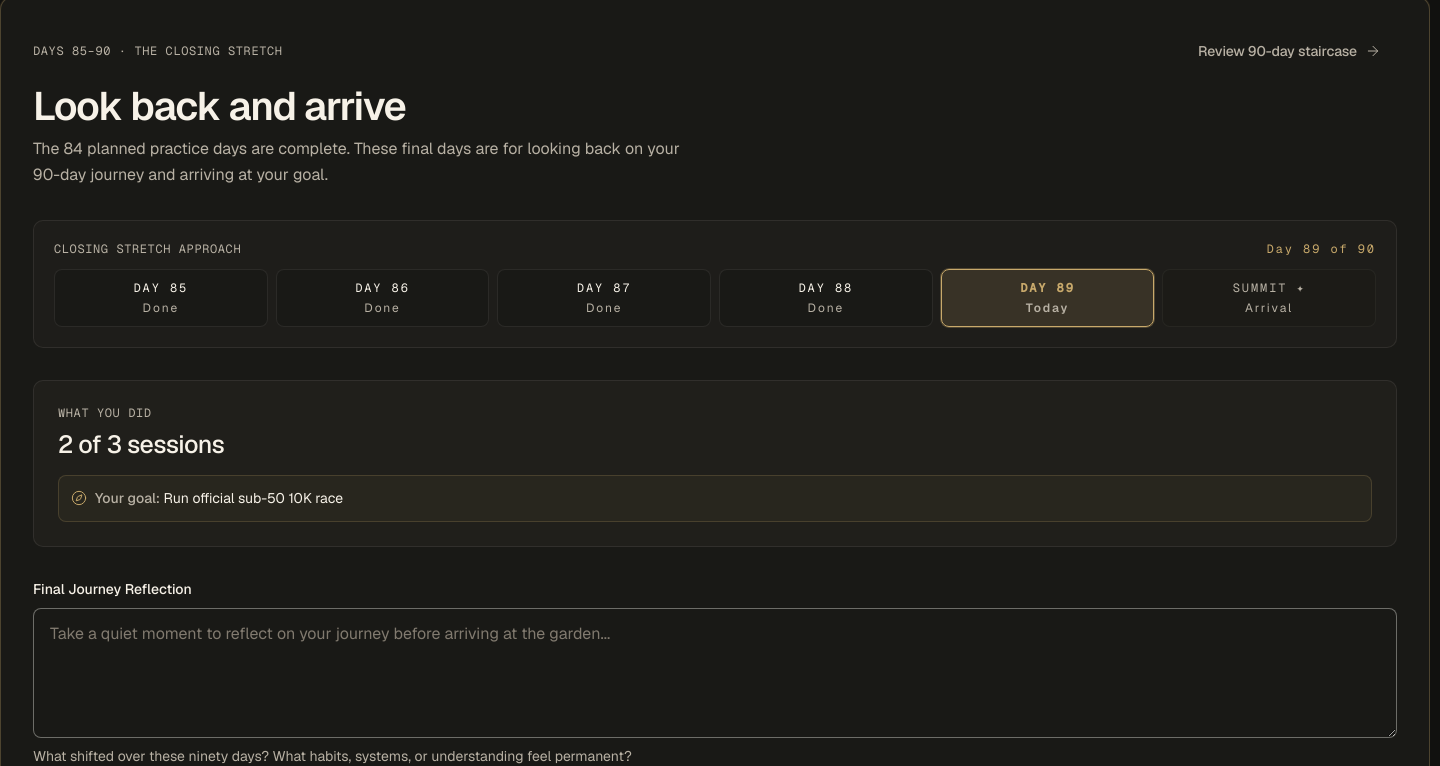
Test: ClosingStretchView Component (M9.4) › handles completion failure with visible alert and allows non-destructive retry (M9.4-R3)
Later steps or results of the test are not shown.
Step 1. Replace the text in the text box labelled "Final Journey Reflection" with "Important draft that must not be lost." → (715, 673), box [33,608,1397,738]
(page scrolled)
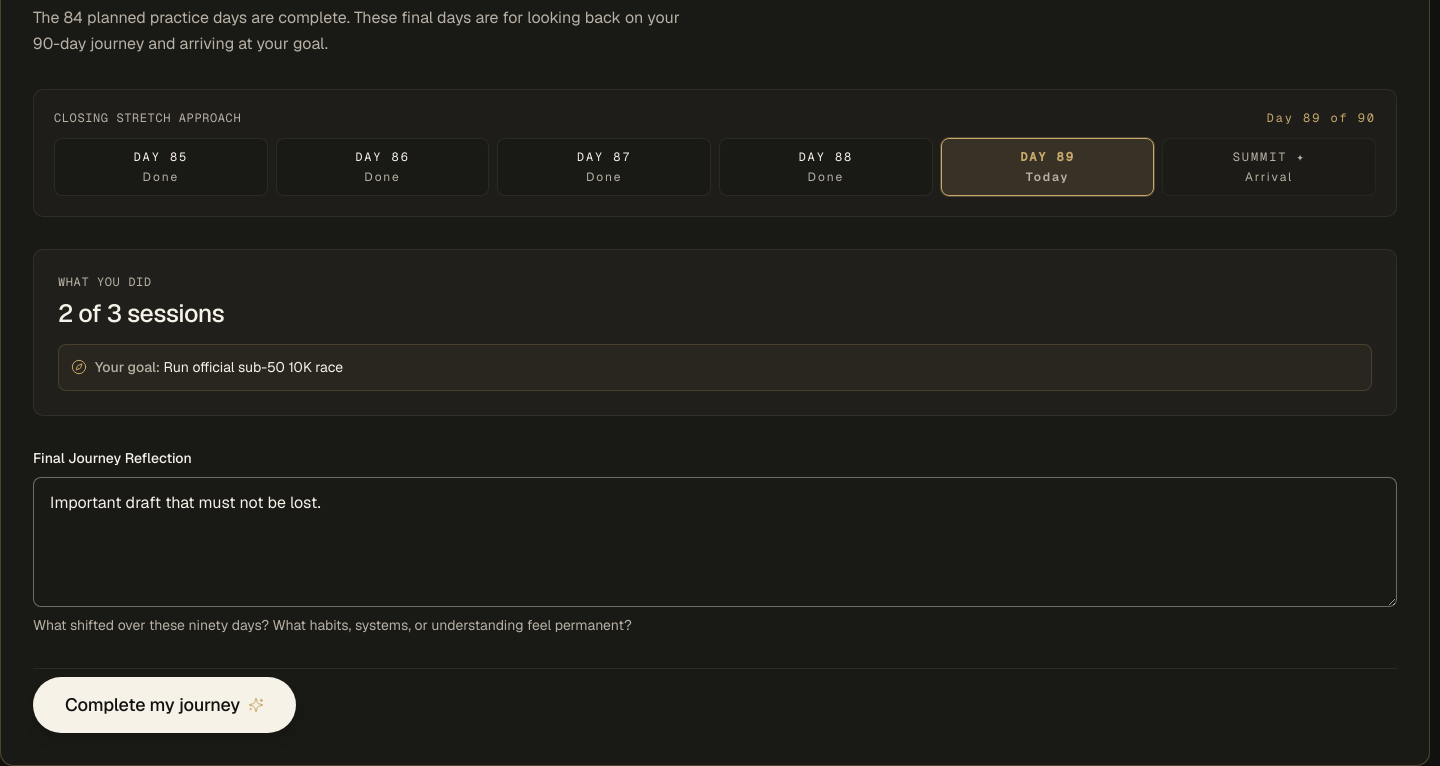
Step 2. Click the button "Complete my journey" → (164, 705), box [33,677,296,733]
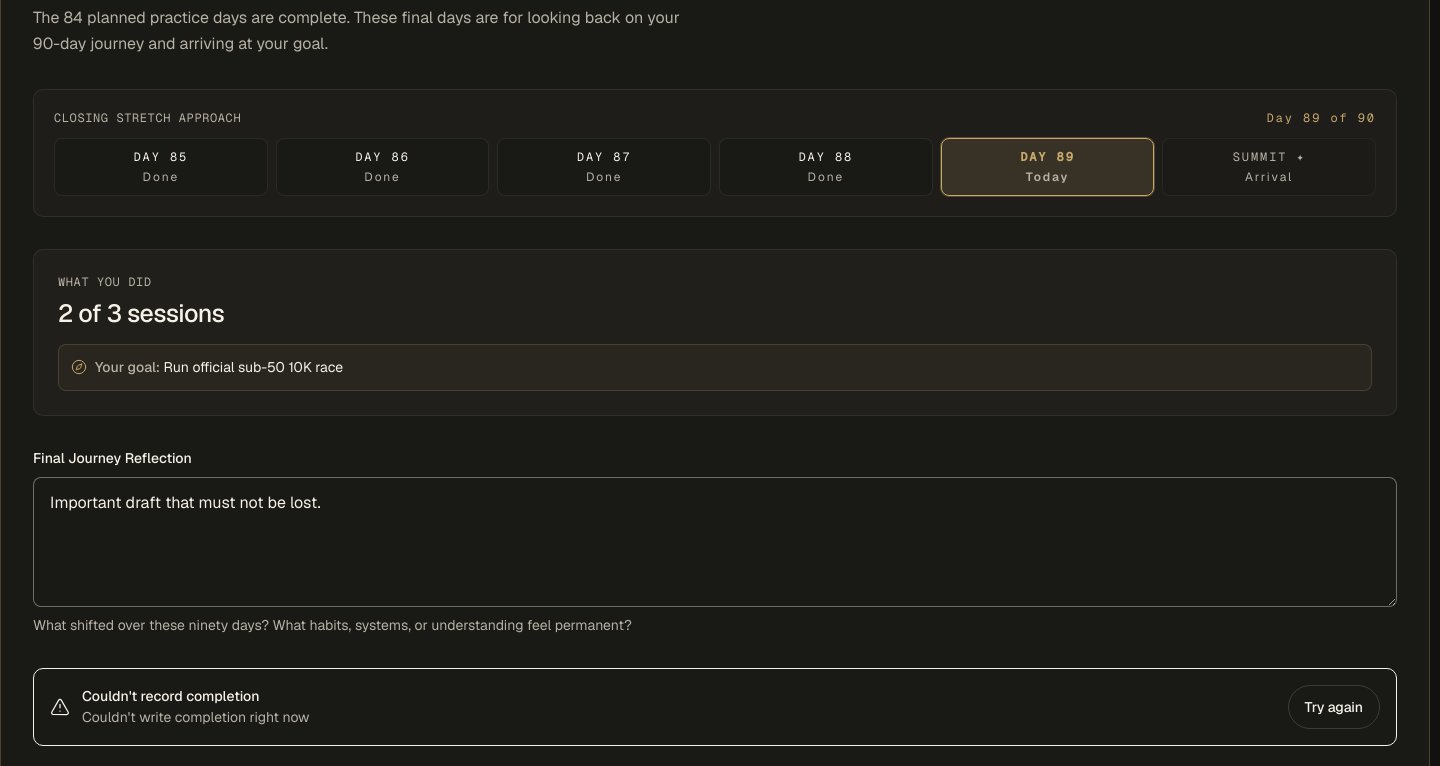
Check: the message "Couldn't record completion Couldn't write completion right now Try again" is shown, box [33,668,1397,746]
Check: the text "Couldn't record completion" is shown, box [82,687,260,705]
